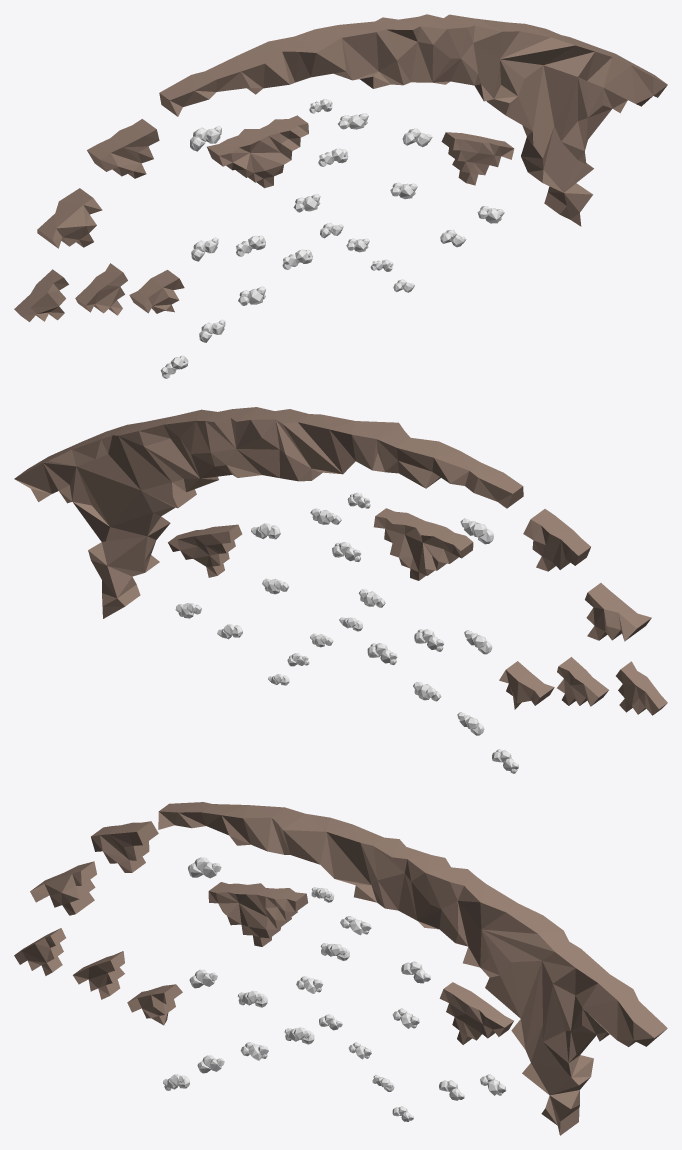
File: LrgShard_PierWaterfall_3DMesh.fbx
3 views of the same model, one above another, from view 1: azimuth 30°, elevation 25°; view 2: azimuth 150°, elevation 25°; view 3: azimuth 330°, elevation 25° (orthographic).
Parts seen in each view (by area): view 1: Island_Main_PIer, Island20, Island27, Island25, Island18, Island22, Island16, Island10; view 2: Island_Main_PIer, Island20, Island27, Island25, Island18, Island22, Island16, Island10; view 3: Island_Main_PIer, Island20, Island18, Island27, Island25, Island16, Island22, Island10, Cloud27:Cloud1.
Part boxes in pixels (x1=…): Island_Main_PIer: x1=159, y1=14, x2=667, y2=226; Island20: x1=207, y1=115, x2=308, y2=188; Island27: x1=87, y1=119, x2=159, y2=178; Island25: x1=37, y1=188, x2=102, y2=248; Island18: x1=441, y1=132, x2=514, y2=185; Island22: x1=14, y1=269, x2=68, y2=321; Island16: x1=75, y1=263, x2=127, y2=315; Island10: x1=129, y1=270, x2=184, y2=313; Island_Main_PIer: x1=14, y1=407, x2=523, y2=618; Island20: x1=373, y1=508, x2=473, y2=580; Island27: x1=523, y1=509, x2=590, y2=571; Island25: x1=585, y1=583, x2=651, y2=641; Island18: x1=168, y1=524, x2=242, y2=577; Island22: x1=616, y1=661, x2=667, y2=715; Island16: x1=557, y1=657, x2=608, y2=706; Island10: x1=499, y1=661, x2=554, y2=709; Island_Main_PIer: x1=158, y1=802, x2=667, y2=1135; Island20: x1=208, y1=882, x2=308, y2=946; Island18: x1=439, y1=982, x2=513, y2=1044; Island27: x1=91, y1=821, x2=158, y2=872; Island25: x1=30, y1=861, x2=96, y2=915; Island16: x1=73, y1=951, x2=124, y2=999; Island22: x1=14, y1=928, x2=65, y2=975; Island10: x1=127, y1=984, x2=182, y2=1025; Cloud27:Cloud1: x1=188, y1=857, x2=221, y2=878.
Bounding box in the file's own units: 98.02 × 44.6 × 7.12.
